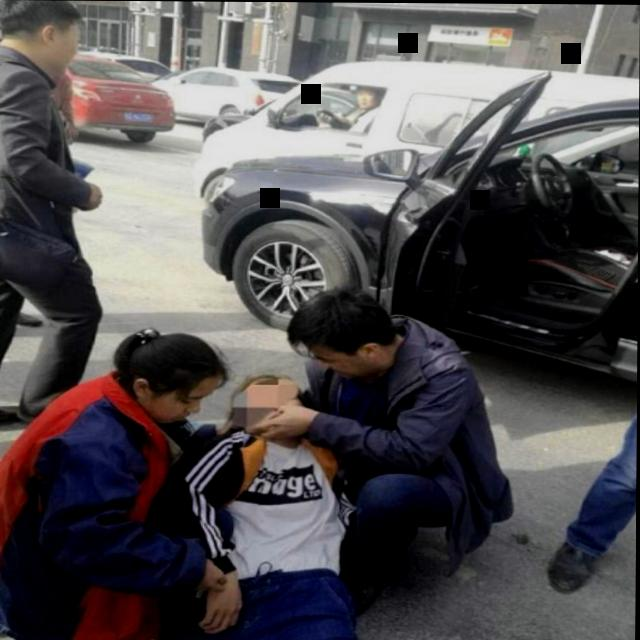Fall-Detected: (123, 349, 397, 640)
